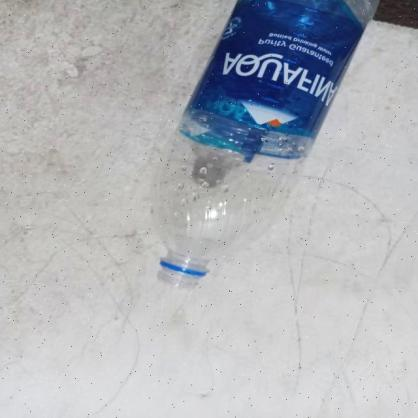bottle: (144, 0, 384, 310)
label: (170, 0, 368, 166)
